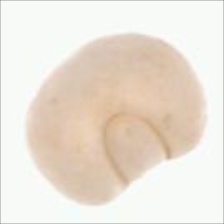L5: (101, 109, 171, 188)
L6: (22, 31, 208, 208)
